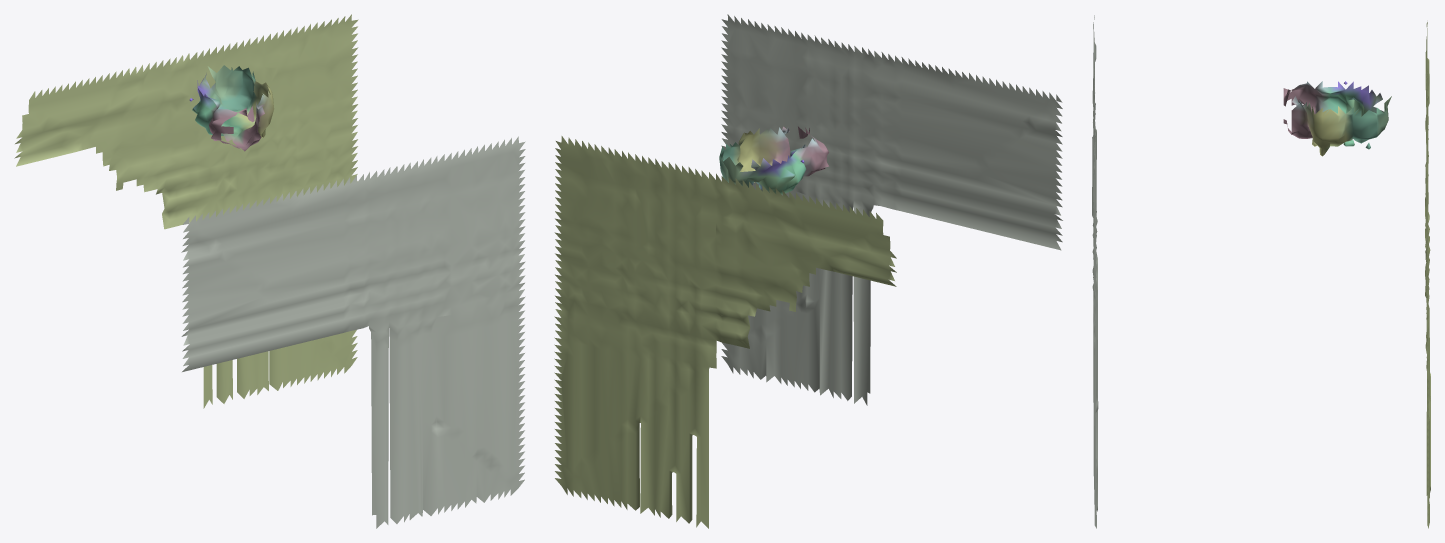
File: tile_7e4ccbd5fe0e_0_-1_-1_0_lod1.glb
The picture shows the model from 3 angles, left to right: view 1: azimuth 30°, elevation 25°; view 2: azimuth 150°, elevation 25°; view 3: azimuth 270°, elevation 25°; orthographic projection.
Size of the model in its own units: 4.08 by 4.08 by 3.5.
